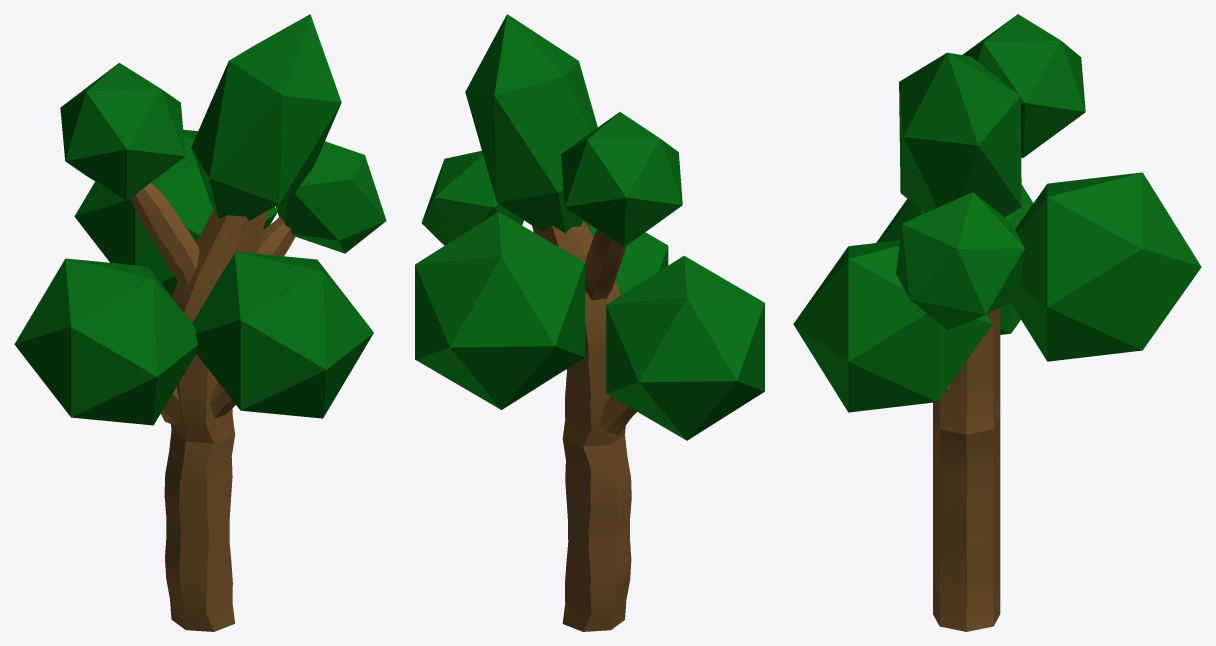
Rendered from Tree.fbx.
3 renders of one model, left to right at view 1: azimuth 30°, elevation 25°; view 2: azimuth 150°, elevation 25°; view 3: azimuth 270°, elevation 25°, orthographic. The views are drawn at different scales.
Parts seen in each view (by area): view 1: pCylinder8; view 2: pCylinder8; view 3: pCylinder8.
Part boxes in pixels (x1,y1,x2,y2): pCylinder8: [14, 14, 386, 631]; pCylinder8: [415, 14, 764, 631]; pCylinder8: [793, 14, 1201, 631].
Bounding box in the file's own units: 11.69 × 19.63 × 11.83.
